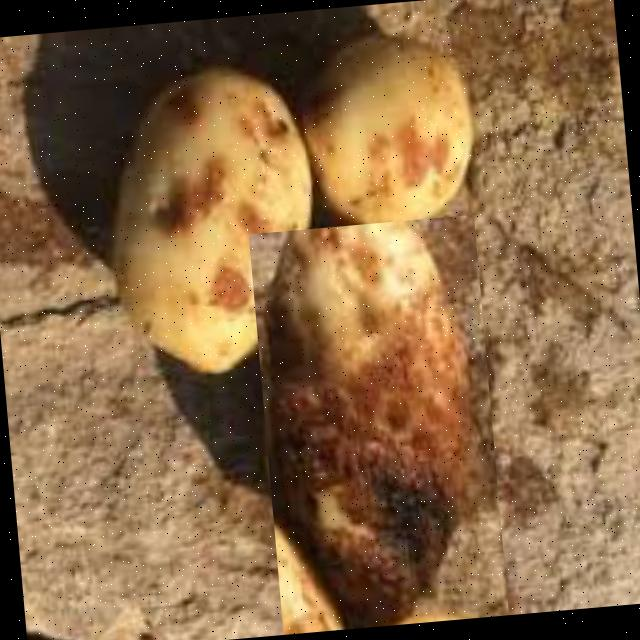Diseased-fungal potato: (248, 215, 508, 634), (82, 51, 336, 398), (294, 30, 483, 247)
